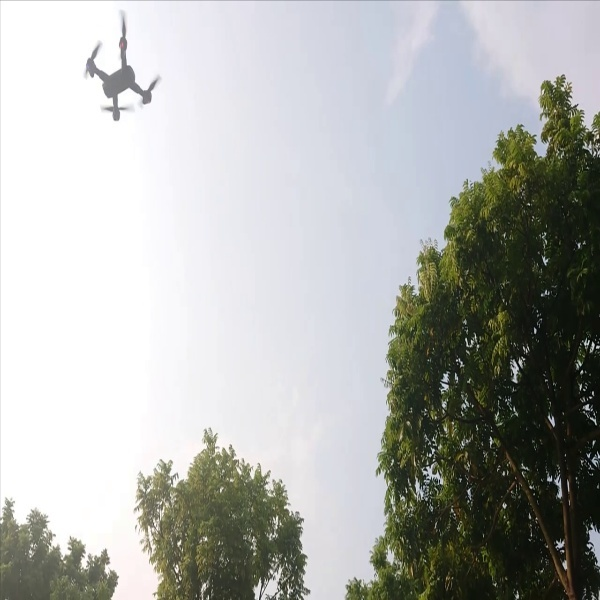drone: (77, 12, 168, 135)
